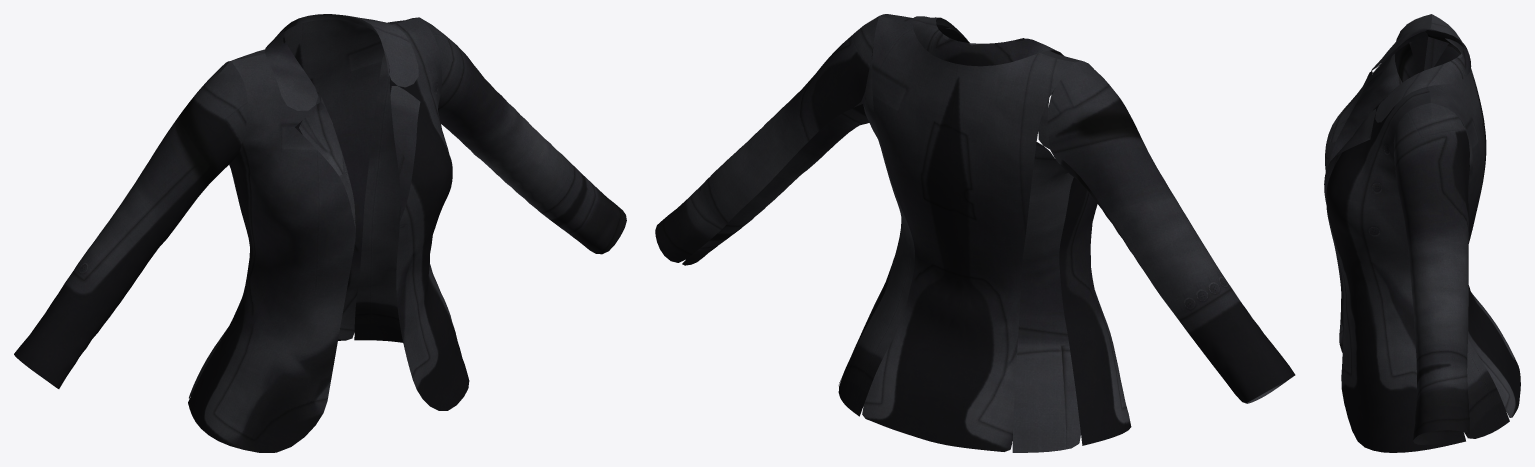
File: female_suit_main.glb
3 views of the same model, side by side, from view 1: azimuth 30°, elevation 25°; view 2: azimuth 150°, elevation 25°; view 3: azimuth 270°, elevation 25° (orthographic). The views are drawn at different scales.
Visible parts, largest first — view 1: all; view 2: all; view 3: all.
Boxes of the visible parts, left/top/right/bottom form: all: left=14, top=14, right=626, bottom=452; all: left=655, top=14, right=1295, bottom=452; all: left=1324, top=14, right=1520, bottom=452.
Size of the model in its own units: 1 by 0.5931 by 0.2981.
Materials: 1 (1 with a texture image).
